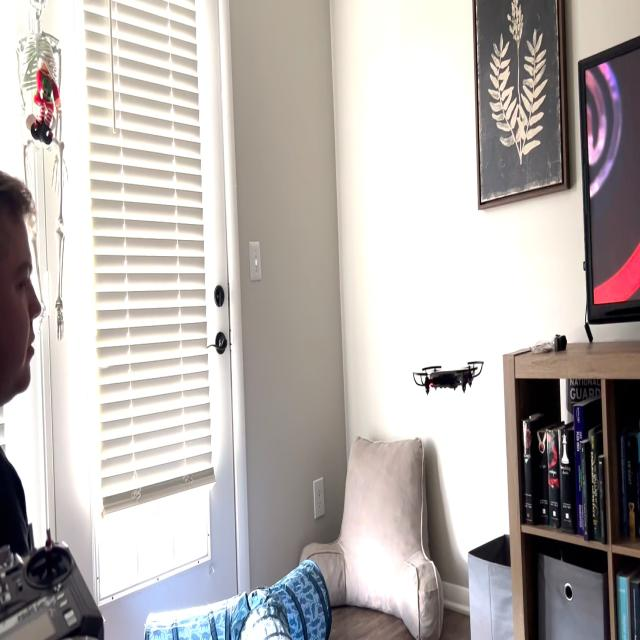drone: (408, 346, 491, 403)
